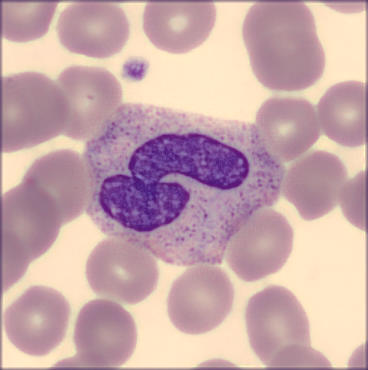WBC: (84, 103, 286, 262)
